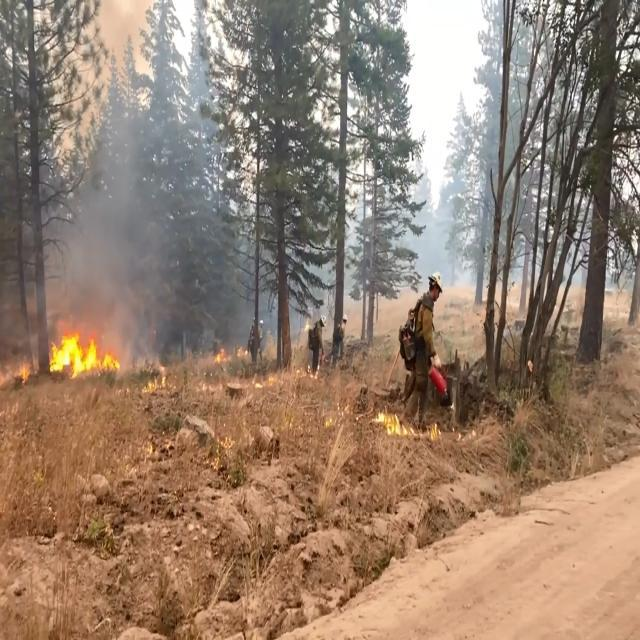Fire: (34, 301, 120, 382)
